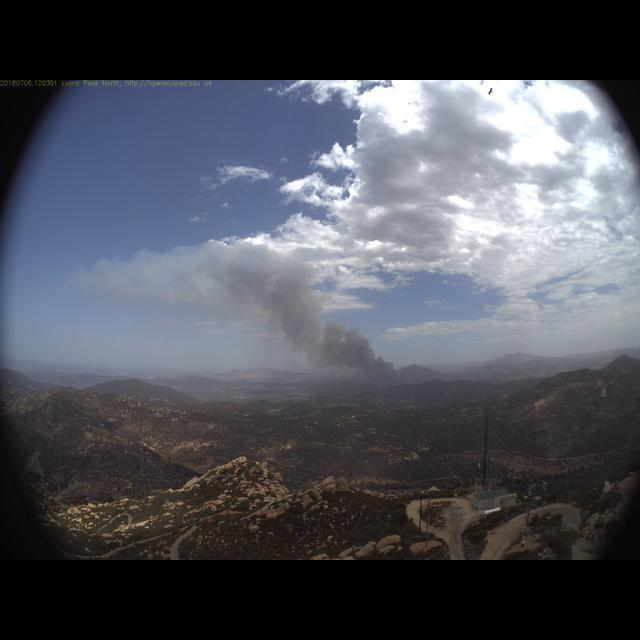Smoke: (70, 237, 406, 389)
